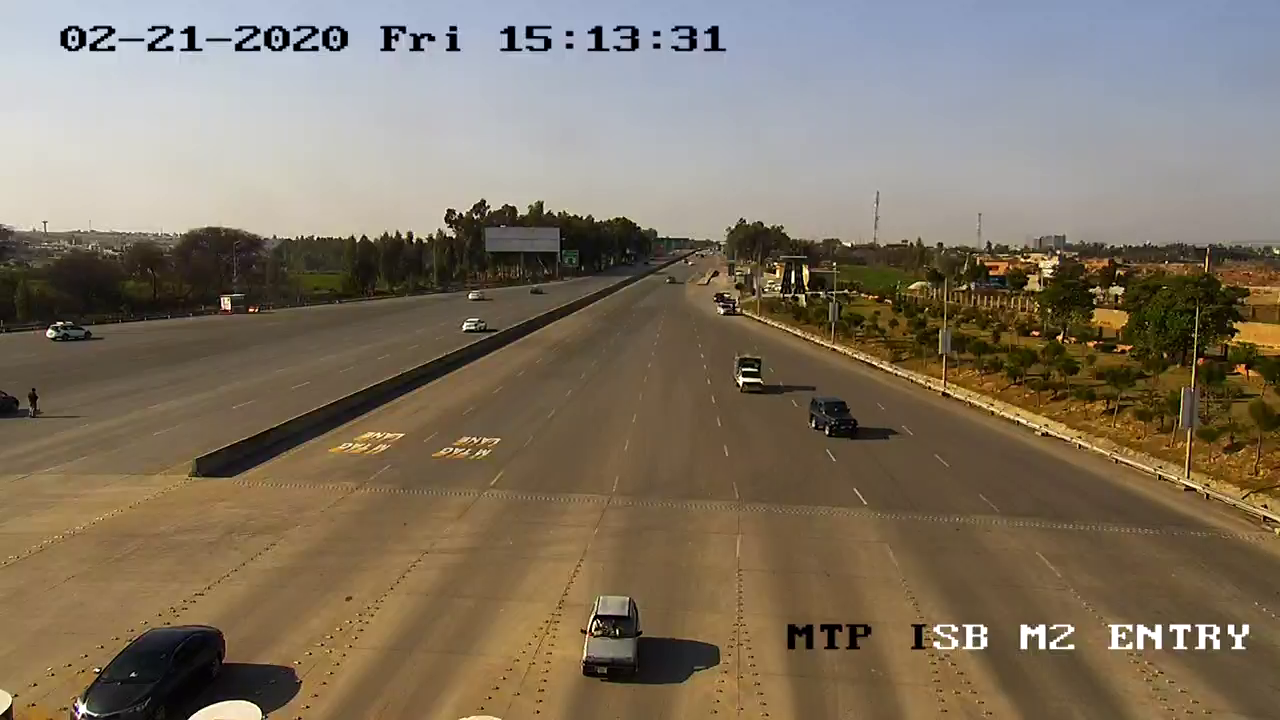f1: (572, 589, 653, 686), (803, 390, 862, 446), (720, 346, 772, 396)
